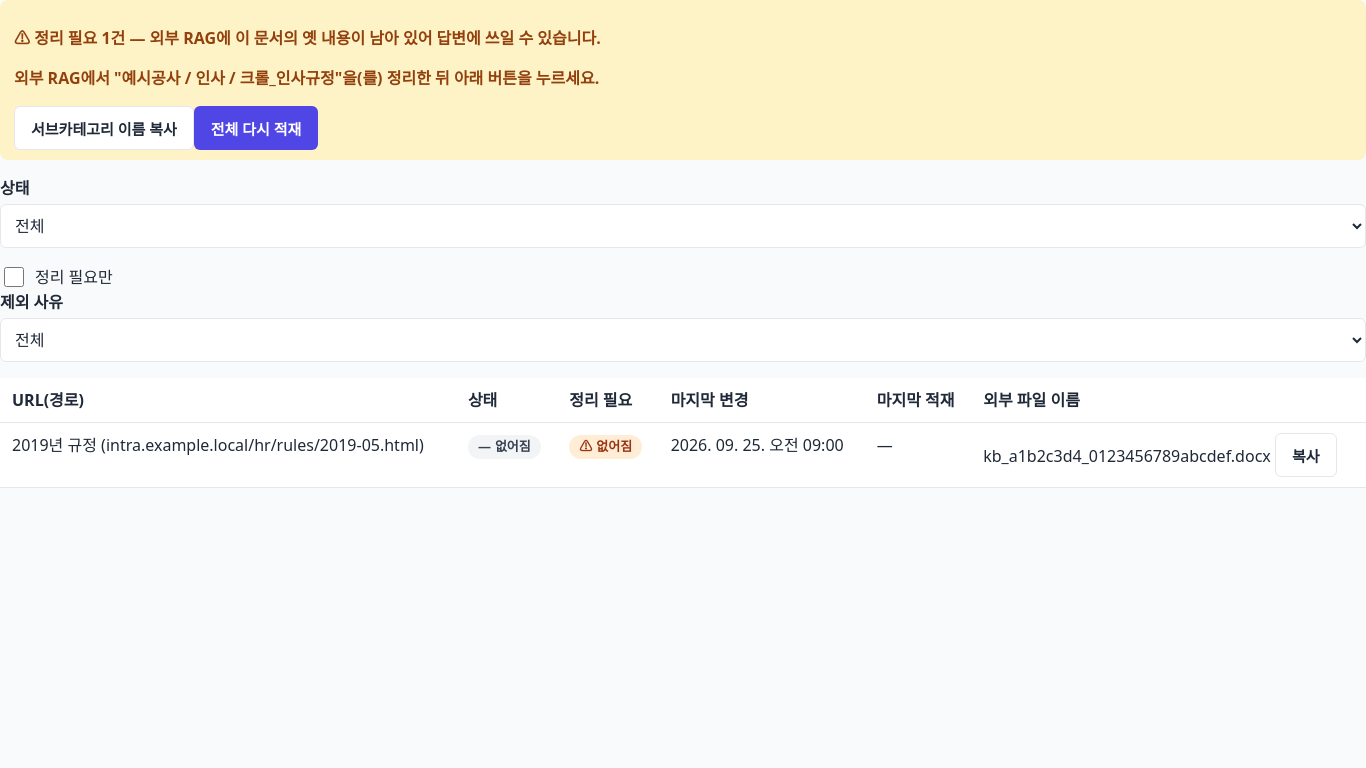
Test case: KbDocumentListPage › REVIEW_REQUIRED(자동 강등 후 재확인 필요) 오류는 전용 안내 토스트를 보여준다
Click the button "전체 다시 적재": coordinates (256, 128) x1=194 y1=106 x2=318 y2=150
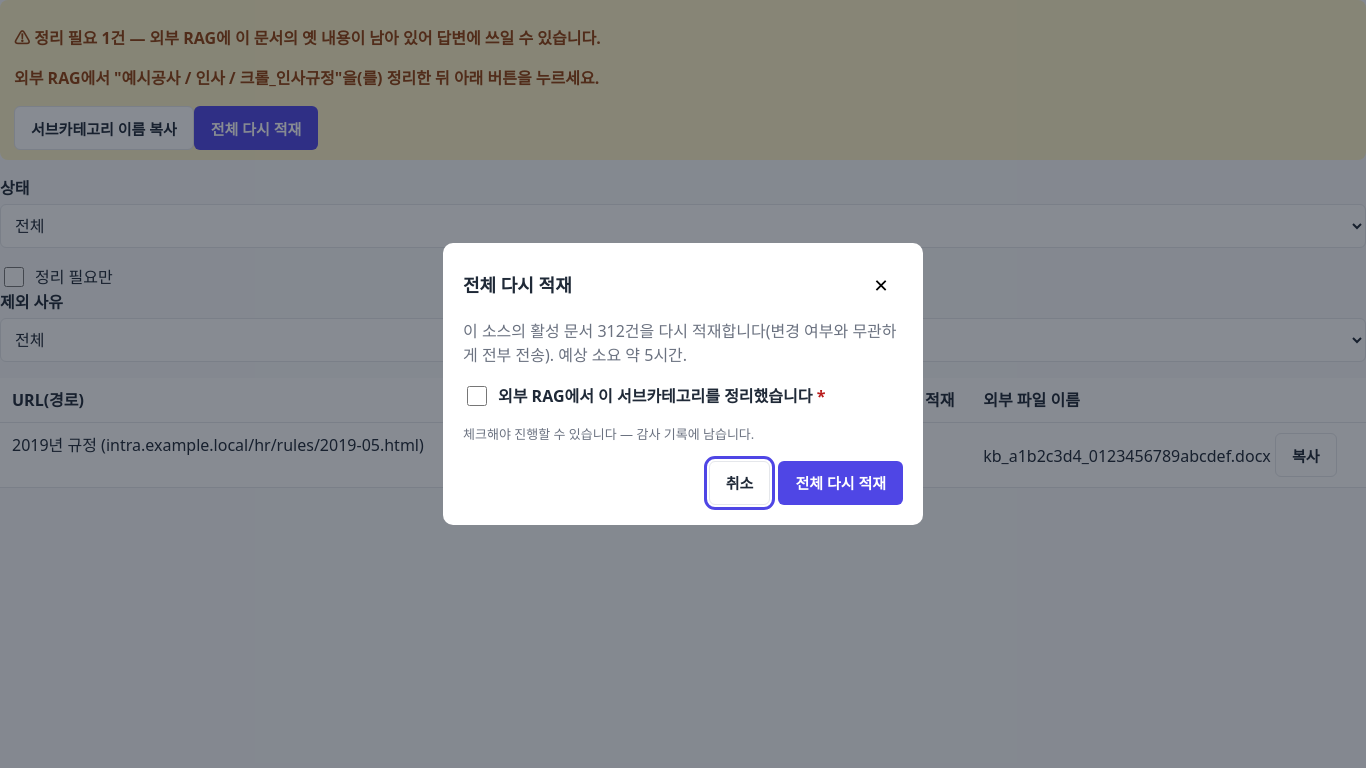
Click the checkbox labelled "외부 RAG에서 이 서브카테고리를 정리했습니다 *": coordinates (477, 396) x1=467 y1=386 x2=487 y2=406
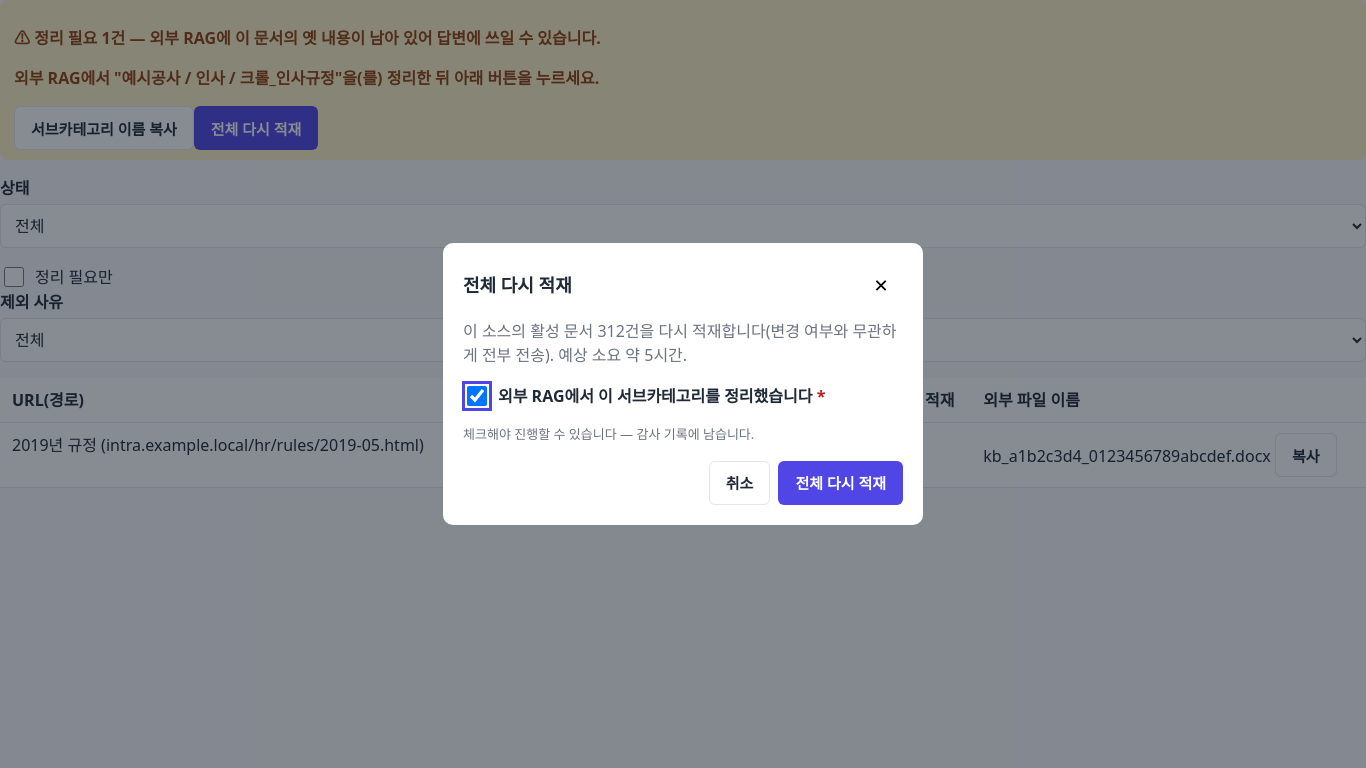
Click the button "전체 다시 적재": coordinates (841, 483) x1=778 y1=461 x2=903 y2=505
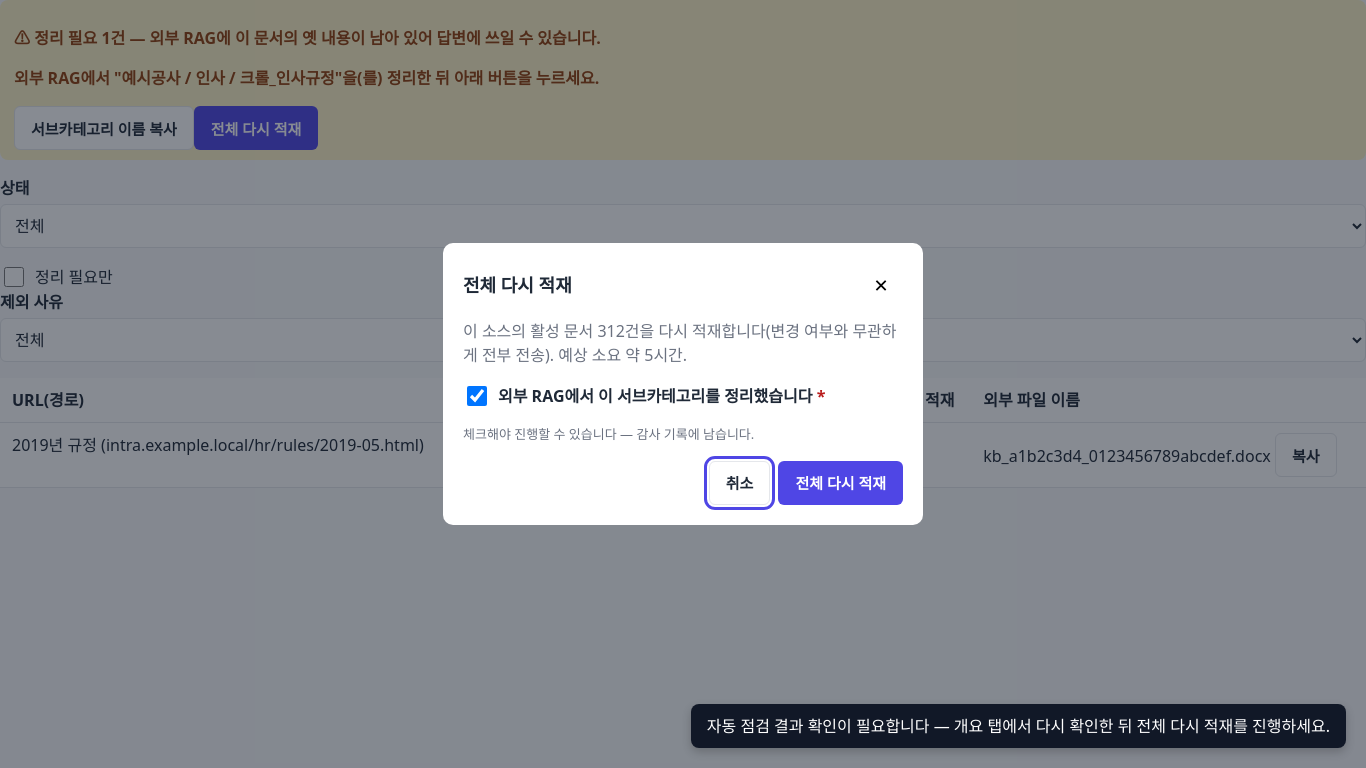
Now the text "자동 점검 결과 확인이 필요합니다 — 개요 탭에서 다시 확인한 뒤 전체 다시 적재를 진행하세요." is shown, box x1=691 y1=704 x2=1346 y2=748
